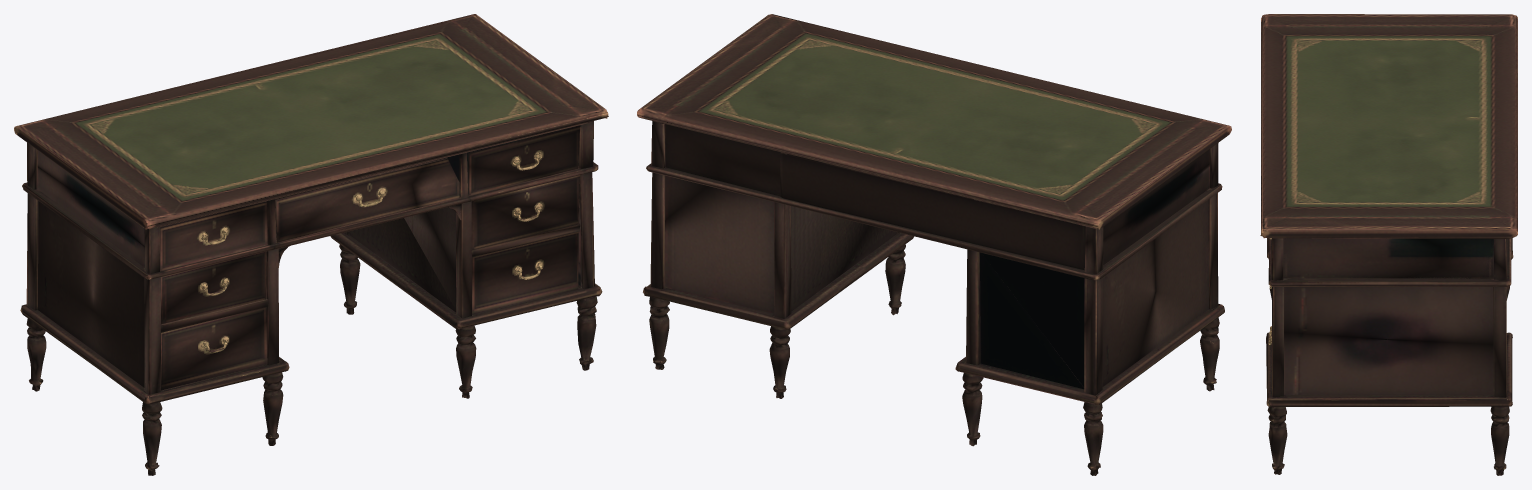
Rendered from rrr_prop_desk_v1.glb.
3 views of the same model, side by side, from view 1: azimuth 30°, elevation 25°; view 2: azimuth 150°, elevation 25°; view 3: azimuth 270°, elevation 25° (orthographic). The views are drawn at different scales.
Parts seen in each view (by area): view 1: Mesh_0; view 2: Mesh_0; view 3: Mesh_0.
Part boxes in pixels (<box>): Mesh_0: <box>14,14,608,475</box>; Mesh_0: <box>637,14,1231,475</box>; Mesh_0: <box>1260,14,1517,475</box>.
Size of the model in its own units: 1.38 by 0.75 by 0.6962.
Materials: 1 (1 with a texture image).
